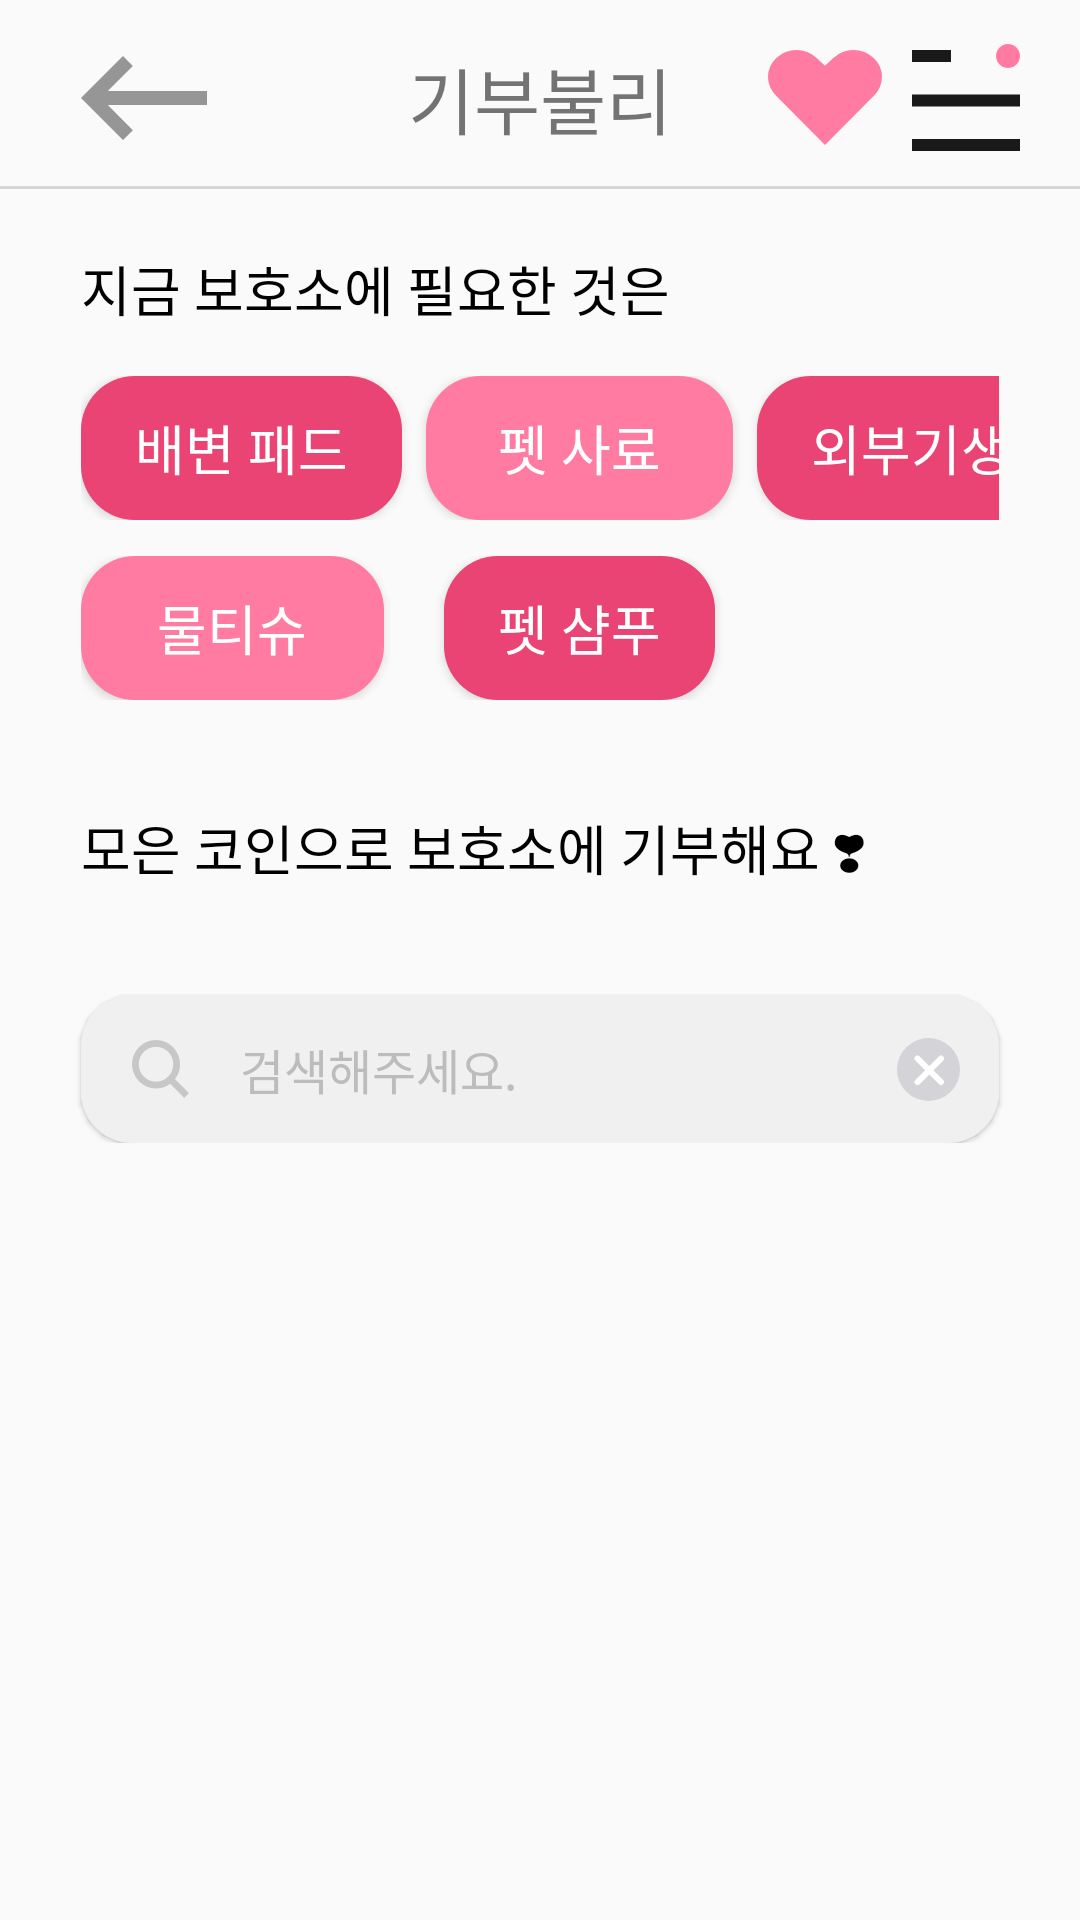

Point at icon controls on the screen. Image size 1080 × 1920, points as (x=x, y=y).
back: (x=144, y=98)
cancel: (x=928, y=1069)
heart: (x=825, y=97)
menu: (x=966, y=97)
search: (x=160, y=1069)
